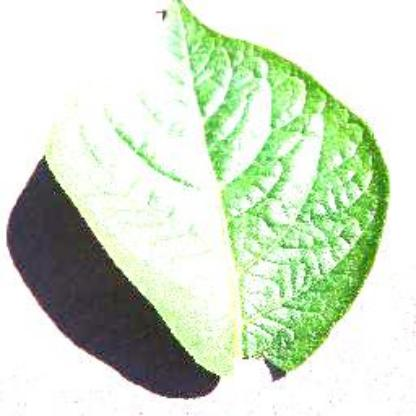Healthy-plant: (39, 1, 391, 381)
